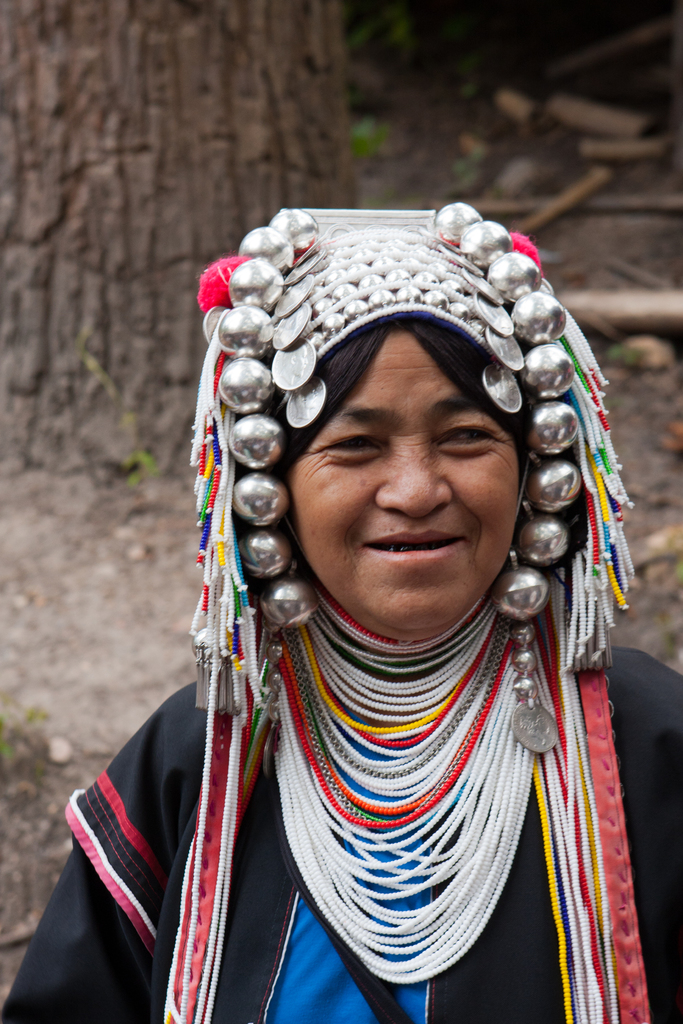face: (298, 311, 515, 633)
